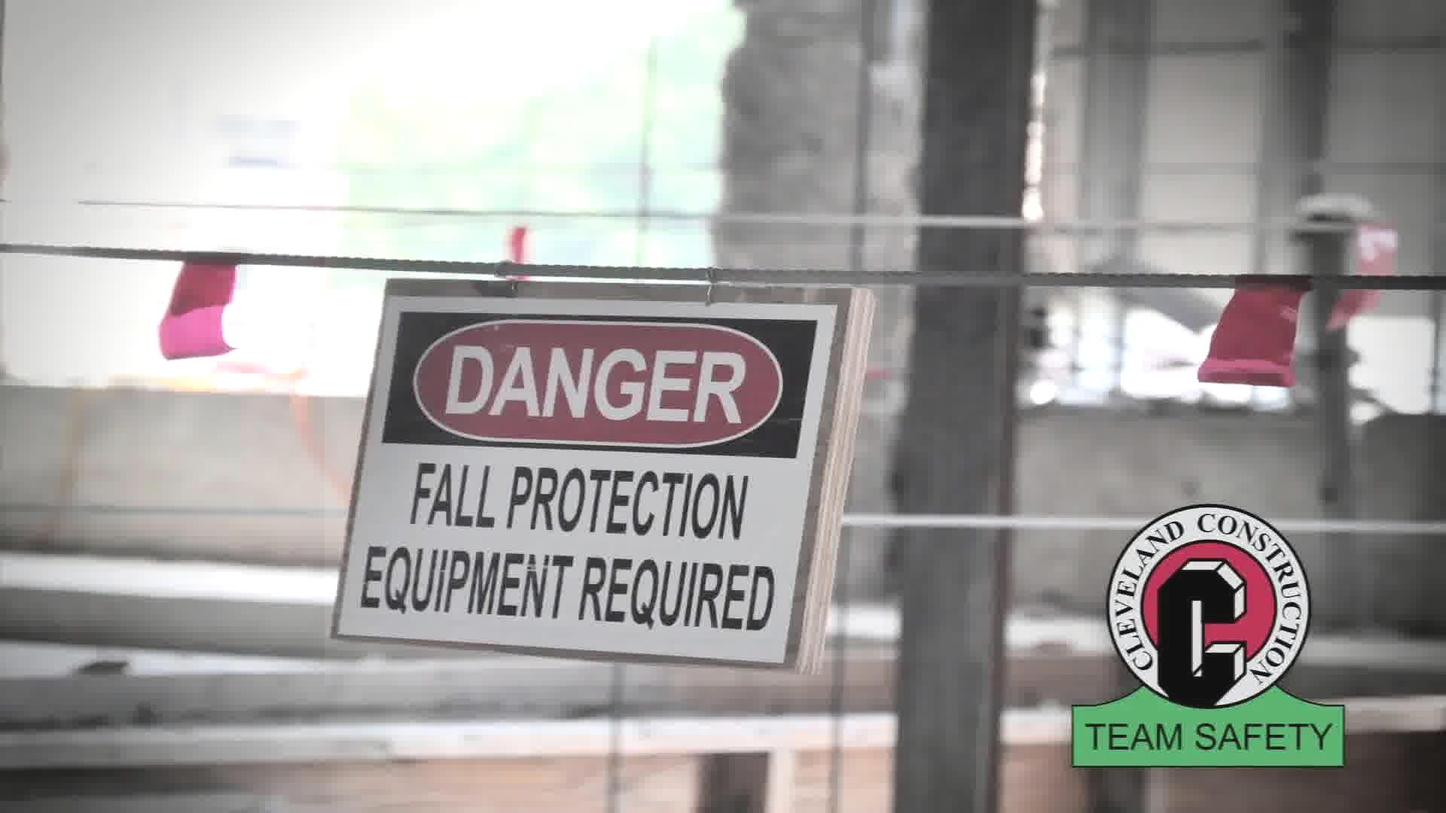safety_signage: (325, 245, 883, 685)
